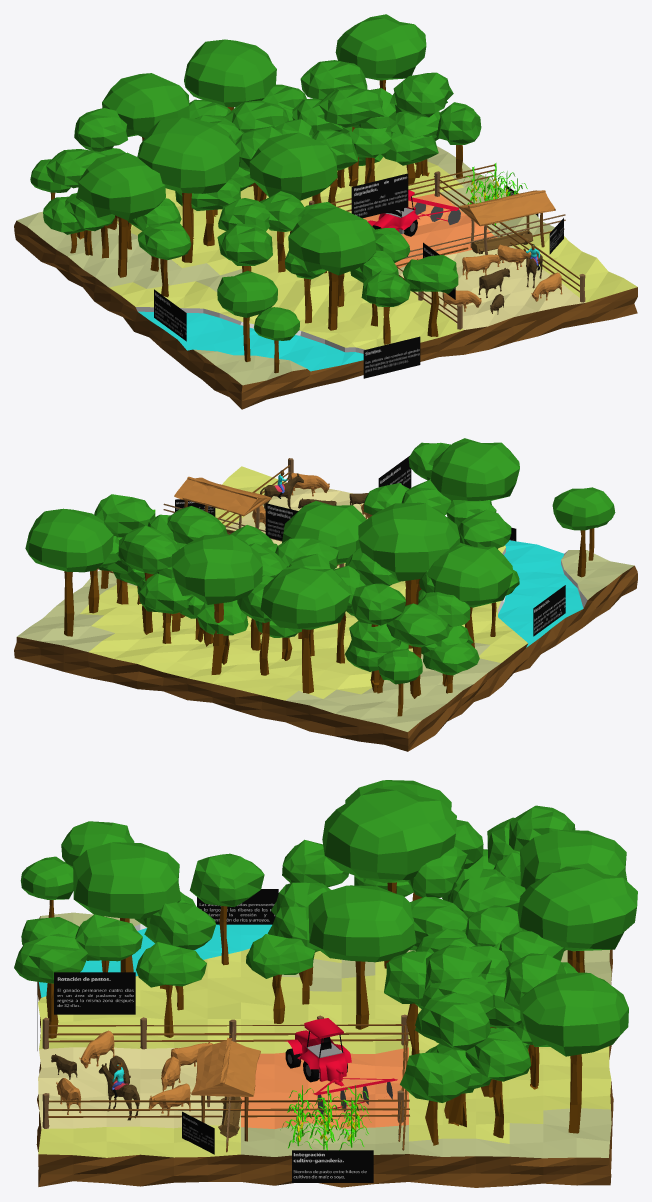
File: granja.glb
3 renders of one model, top to bottom at view 1: azimuth 30°, elevation 25°; view 2: azimuth 150°, elevation 25°; view 3: azimuth 270°, elevation 25°, orthographic. The views are drawn at different scales.
Visible parts, largest first — view 1: Material3_998, Material8_1028.001, Material3_1013, Material4_1003, Material6_1031, Material3_1029, Material1_1018, Material2_1032, Material5_1027, Material2_1030, Plane, Plane.004 (+7 smaller); view 2: Material3_998, Material8_1028.001, Material3_1013, Material6_1031, Material4_1003, Material1_1018, Material2_1032, Material5_1027, Material3_1029, Plane.005, Material5_1009, Plane (+1 smaller); view 3: Material3_998, Material8_1028.001, Material3_1013, Material3_1029, Material2_1030, Material6_1031, Material4_1003, Material2_1032, Material5_1027, Plane.001, Plane.003, Material1_1038 (+8 smaller).
Boxes of the visible parts, bbox=[...] form: Material3_998: bbox=[30, 14, 481, 340]; Material8_1028.001: bbox=[109, 157, 637, 349]; Material3_1013: bbox=[14, 164, 637, 409]; Material4_1003: bbox=[50, 80, 462, 373]; Material6_1031: bbox=[17, 146, 489, 292]; Material3_1029: bbox=[398, 246, 585, 329]; Material1_1018: bbox=[138, 245, 540, 371]; Material2_1032: bbox=[416, 190, 562, 311]; Material5_1027: bbox=[194, 178, 554, 385]; Material2_1030: bbox=[363, 193, 497, 268]; Plane: bbox=[351, 173, 408, 218]; Plane.004: bbox=[363, 336, 420, 378]; Material3_998: bbox=[25, 438, 615, 684]; Material8_1028.001: bbox=[80, 466, 527, 700]; Material3_1013: bbox=[14, 465, 637, 751]; Material6_1031: bbox=[17, 575, 500, 731]; Material4_1003: bbox=[64, 528, 594, 716]; Material1_1018: bbox=[277, 474, 583, 647]; Material2_1032: bbox=[174, 472, 372, 529]; Material5_1027: bbox=[97, 550, 634, 599]; Material3_1029: bbox=[226, 487, 367, 568]; Plane.005: bbox=[533, 585, 565, 636]; Material5_1009: bbox=[260, 470, 368, 510]; Plane: bbox=[265, 503, 297, 540]; Material3_998: bbox=[14, 780, 637, 1102]; Material8_1028.001: bbox=[38, 948, 611, 1157]; Material3_1013: bbox=[36, 916, 613, 1187]; Material3_1029: bbox=[38, 1047, 240, 1128]; Material2_1030: bbox=[241, 1047, 408, 1129]; Material6_1031: bbox=[281, 950, 611, 1158]; Material4_1003: bbox=[46, 882, 584, 1145]; Material2_1032: bbox=[56, 1030, 260, 1115]; Material5_1027: bbox=[40, 912, 408, 1156]; Plane.001: bbox=[54, 972, 135, 1014]; Plane.003: bbox=[292, 1150, 373, 1182]; Material1_1038: bbox=[284, 1018, 397, 1111].
Size of the model in its own units: 38.35 by 14.19 by 39.89.
24 materials, 1 textured.
